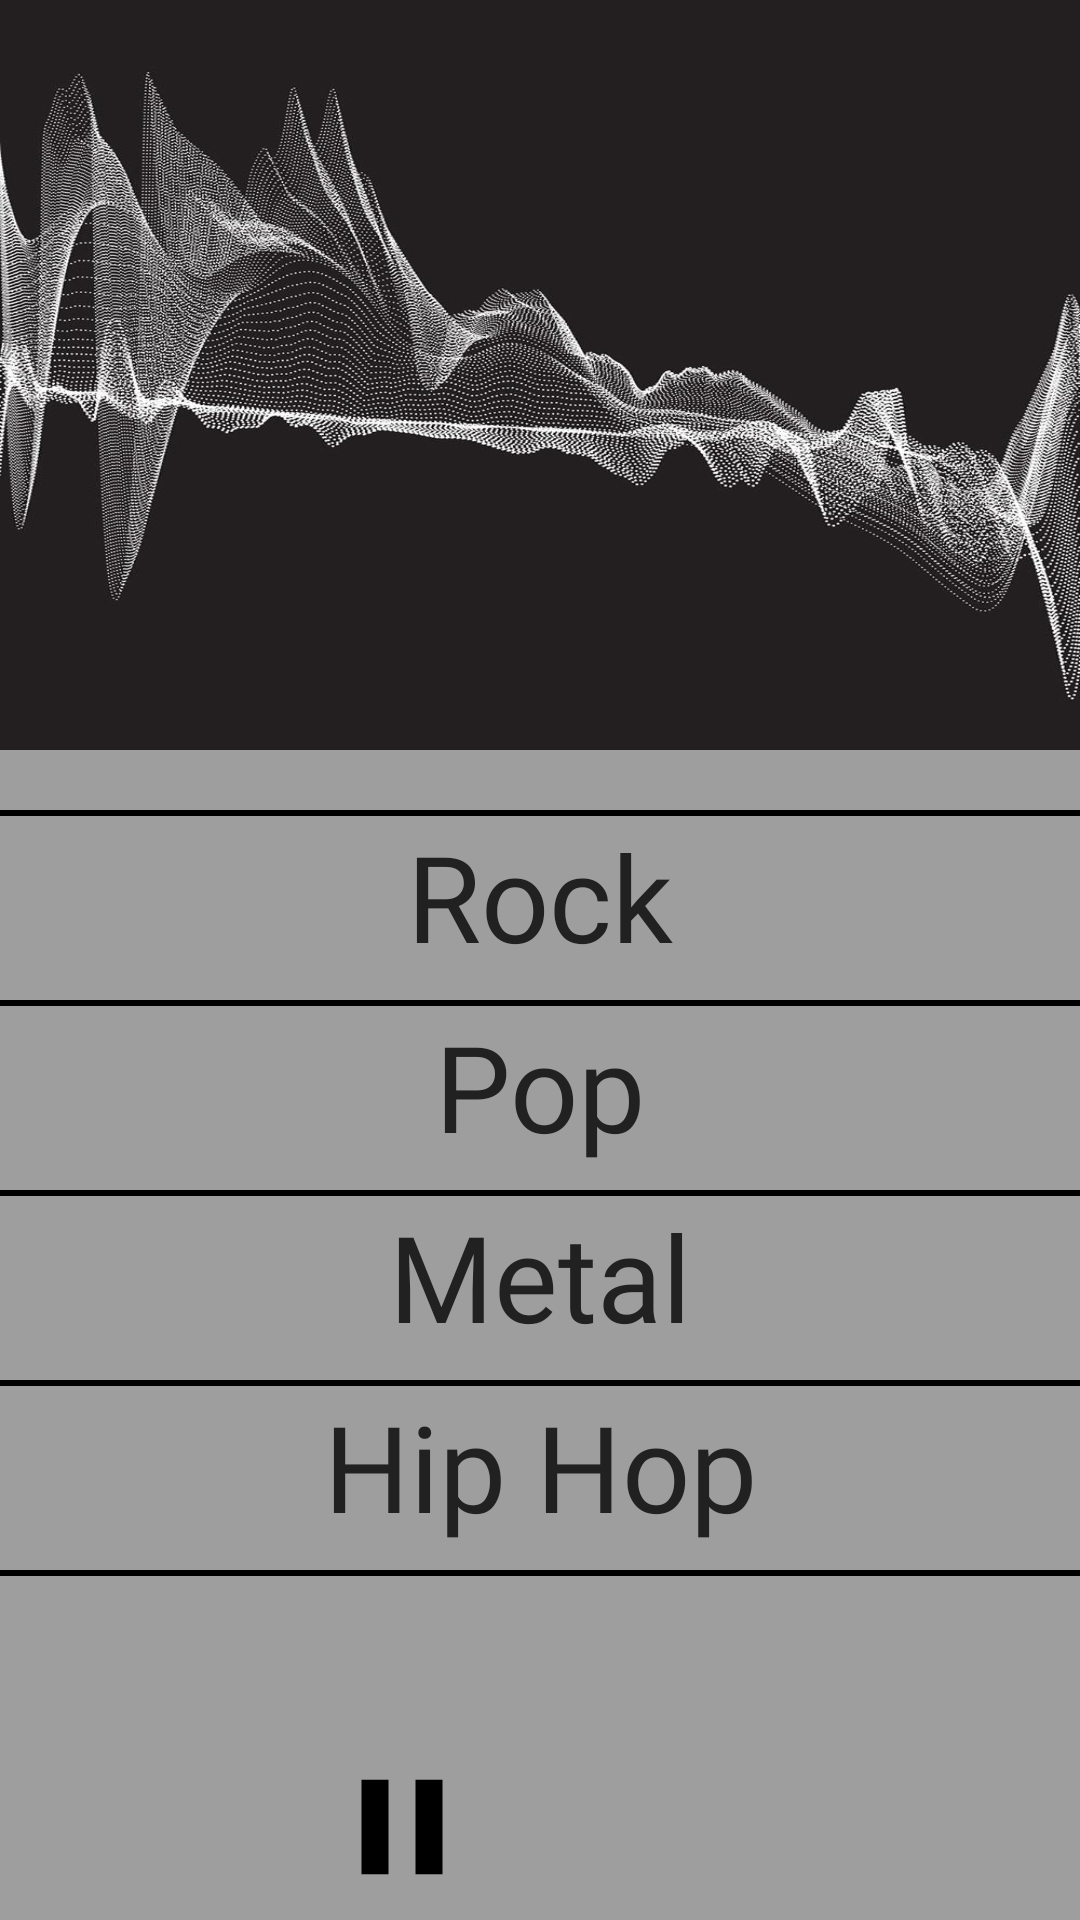

Named icons in this screenshot (1080w x 1920h) and their centers, [x,y]:
pause: [402,1827]
